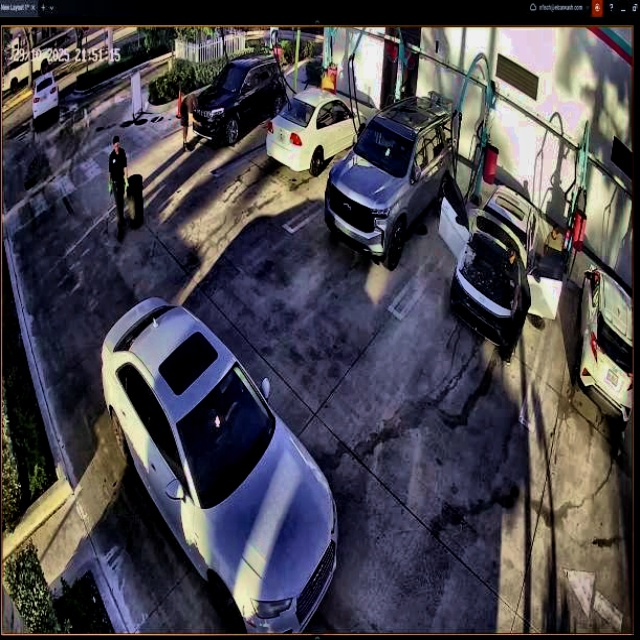Car: (101, 301, 338, 633), (327, 87, 453, 269), (448, 173, 565, 352), (191, 56, 284, 151), (269, 89, 367, 171)
